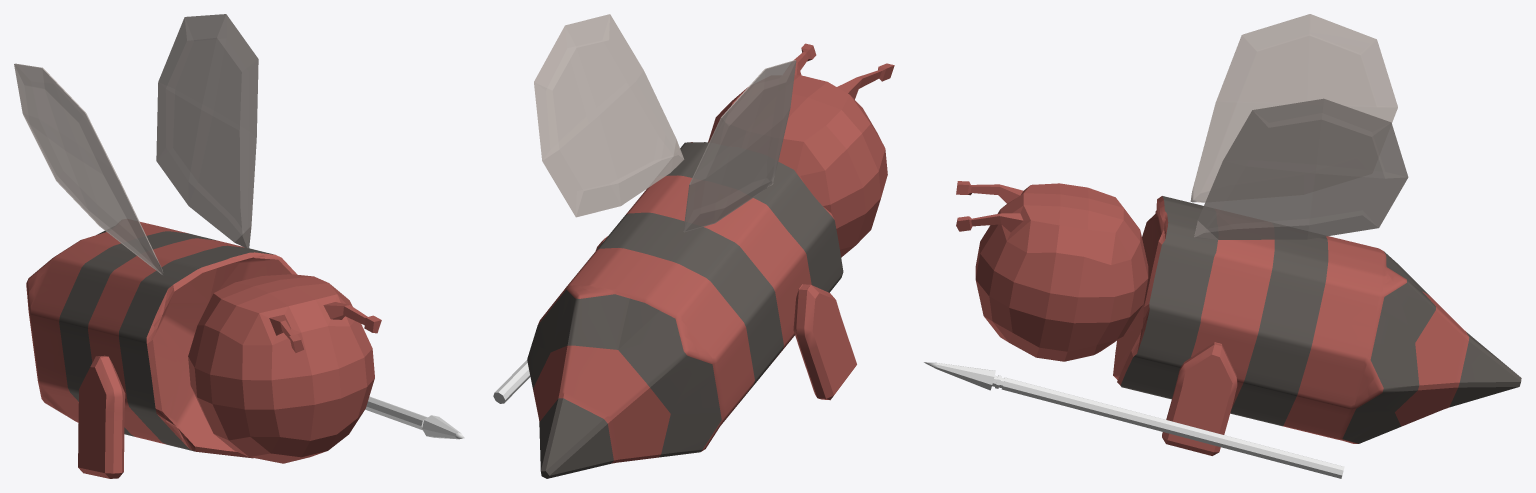
Rendered from wasp.fbx.
The picture shows the model from 3 angles, left to right: view 1: azimuth 30°, elevation 25°; view 2: azimuth 150°, elevation 25°; view 3: azimuth 270°, elevation 25°; orthographic projection. The views are drawn at different scales.
Parts seen in each view (by area): view 1: Wasp; view 2: Wasp; view 3: Wasp.
Boxes of the visible parts, x1,y1,x2,y2 form: Wasp: [14, 14, 464, 478]; Wasp: [493, 14, 894, 478]; Wasp: [924, 14, 1521, 478].
Bounding box in the file's own units: 2.48 × 3.52 × 5.13.
